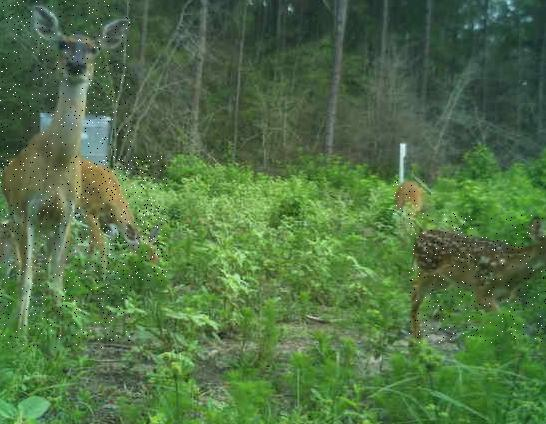Deer: (0, 1, 131, 348), (409, 213, 546, 343), (76, 157, 168, 283), (393, 180, 424, 220)
